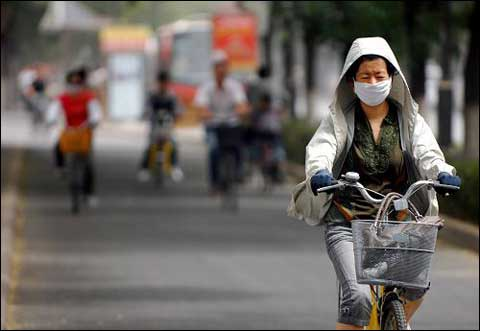face_mask: (354, 59, 391, 104)
